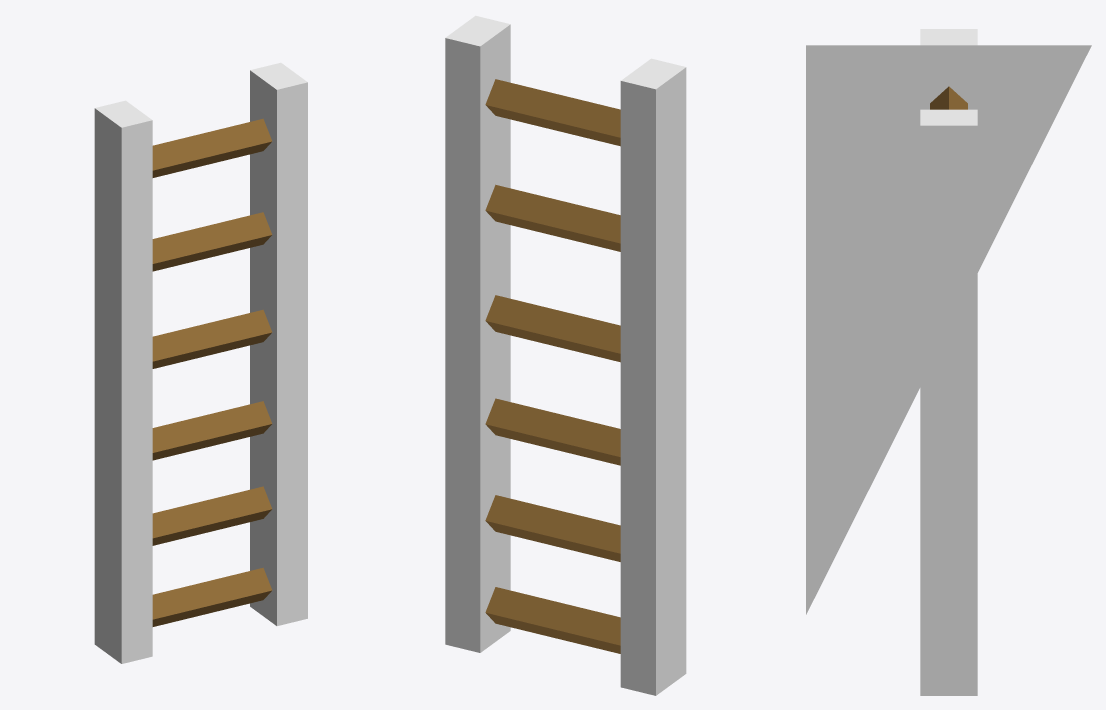
3 renders of one model, left to right at view 1: azimuth 30°, elevation 25°; view 2: azimuth 150°, elevation 25°; view 3: azimuth 270°, elevation 25°, orthographic. The views are drawn at different scales.
Size of the model in its own units: 134 by 264 by 120.
1 material, 1 textured.
